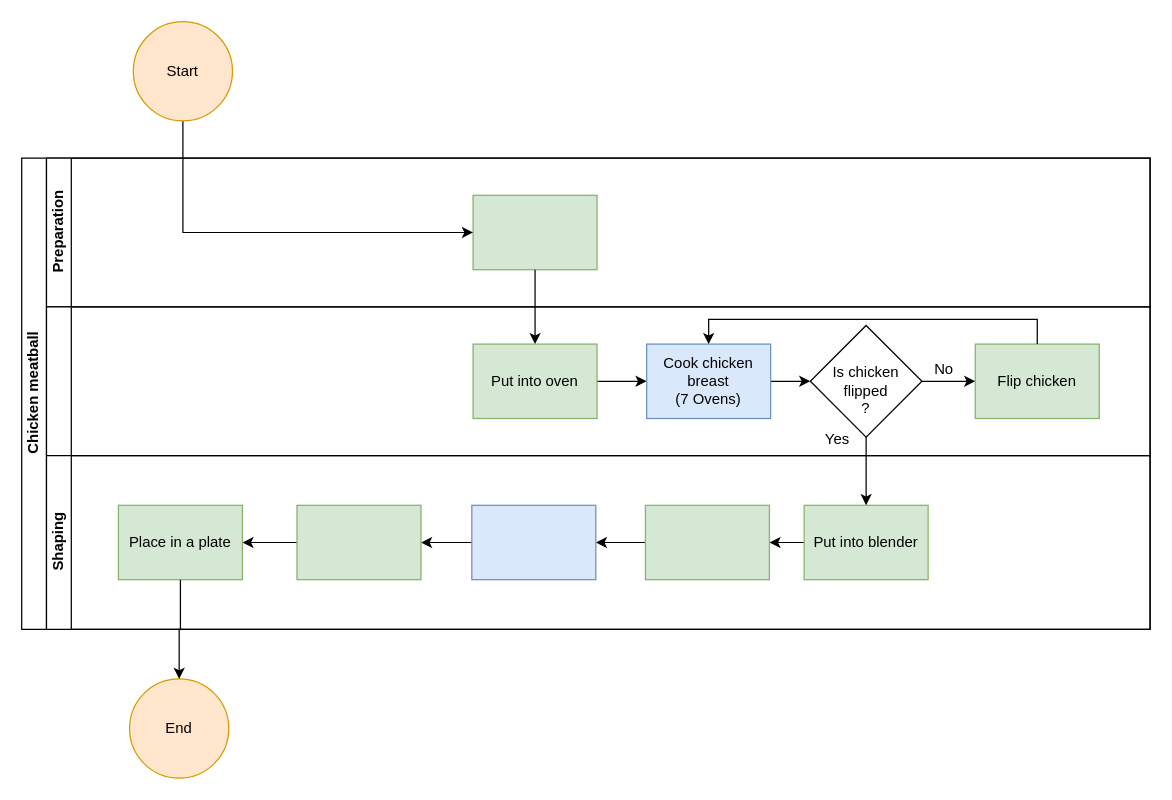
Some shapes in this 1172 by 800 pixel diagram are drawn without their labels. The box of each missing label's shape, as (x1, y1, x2, y2) in pixels:
Add seasoning: (644, 504, 769, 580)
Blend (1 Blender): (471, 504, 596, 580)
Cooking: (45, 306, 1150, 456)
Shape into balls: (296, 504, 421, 580)
Unpack frozen chicken breast: (472, 194, 597, 270)
